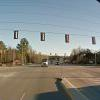Traffic light: (11, 25, 59, 49)
